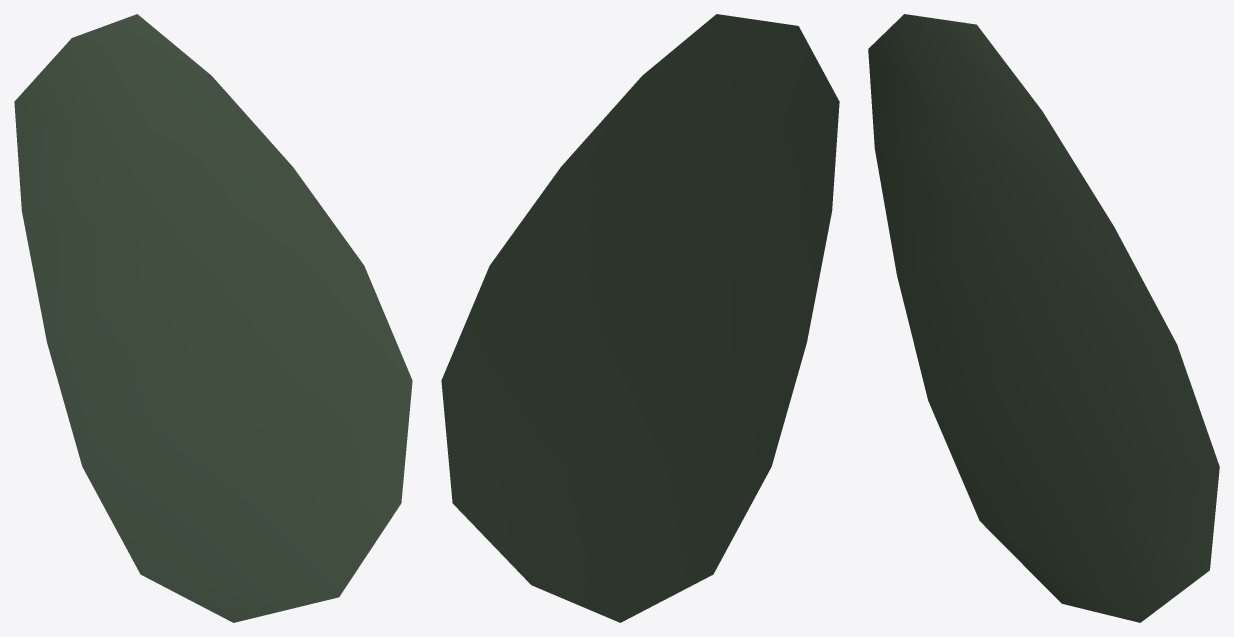
File: duck_feather_flight_tertiary_023.obj
The picture shows the model from 3 angles, left to right: view 1: azimuth 30°, elevation 25°; view 2: azimuth 150°, elevation 25°; view 3: azimuth 330°, elevation 25°; orthographic projection. The views are drawn at different scales.
Visible parts, largest first — view 1: feather_flight_tertiary_023; view 2: feather_flight_tertiary_023; view 3: feather_flight_tertiary_023.
Boxes of the visible parts, <box> form: feather_flight_tertiary_023: <box>14,14,412,622</box>; feather_flight_tertiary_023: <box>441,14,839,622</box>; feather_flight_tertiary_023: <box>868,14,1219,622</box>.
Size of the model in its own units: 0.0176 by 0.0268 by 0.000633.
